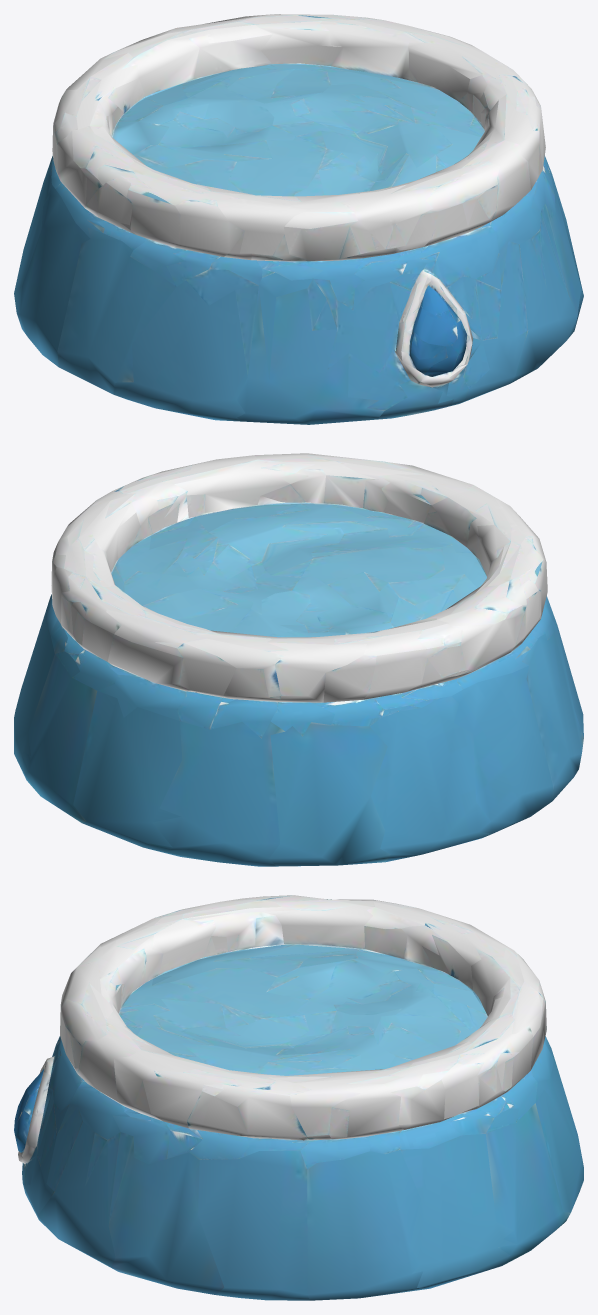
File: water_bowl.glb
3 views of the same model, one above another, from view 1: azimuth 30°, elevation 25°; view 2: azimuth 150°, elevation 25°; view 3: azimuth 270°, elevation 25° (orthographic).
Visible parts, largest first — view 1: water_bowl; view 2: water_bowl; view 3: water_bowl.
Part boxes in pixels (left/top/right/bottom): water_bowl: left=14, top=14, right=583, bottom=424; water_bowl: left=14, top=453, right=583, bottom=866; water_bowl: left=14, top=895, right=583, bottom=1300.
Bounding box in the file's own units: 0.4348 × 0.1684 × 0.44.
Materials: 1 (1 with a texture image).
